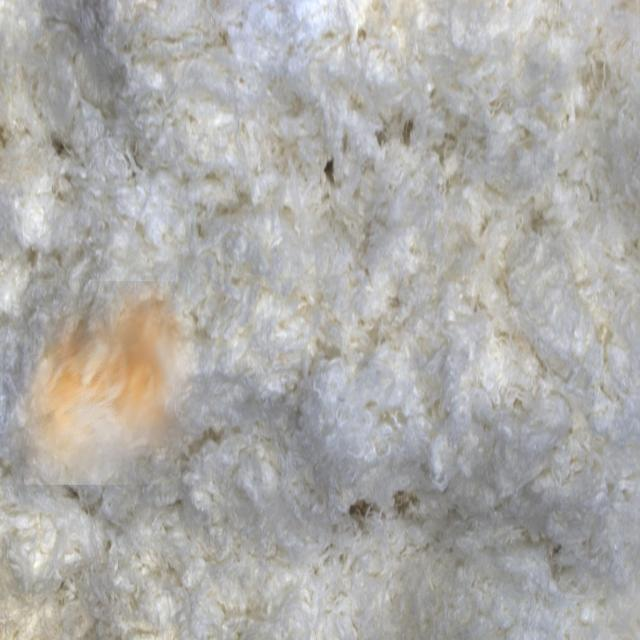dust: (3, 281, 194, 485)
